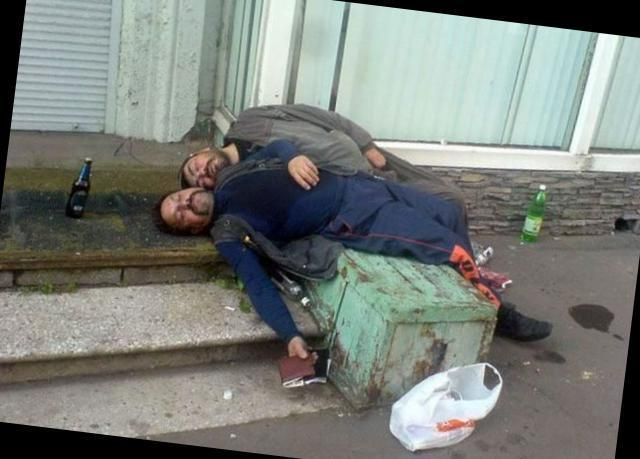Drunk: (161, 189, 215, 224), (184, 152, 227, 184)
